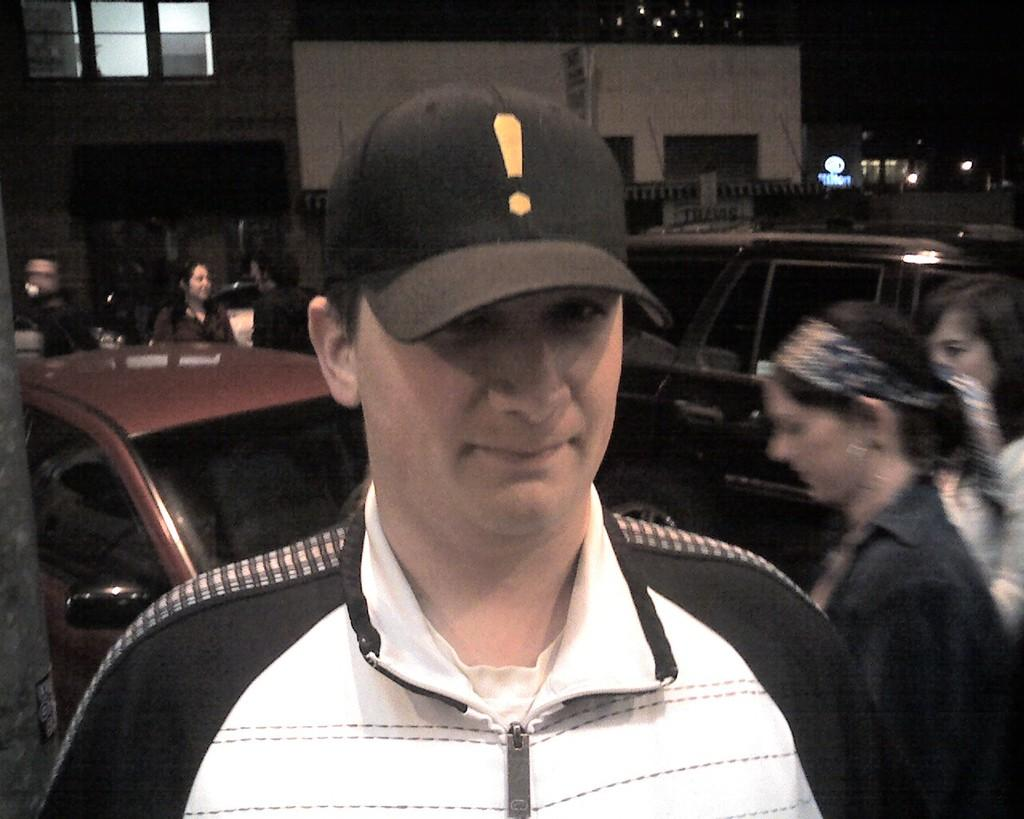Hat: (321, 79, 668, 332)
